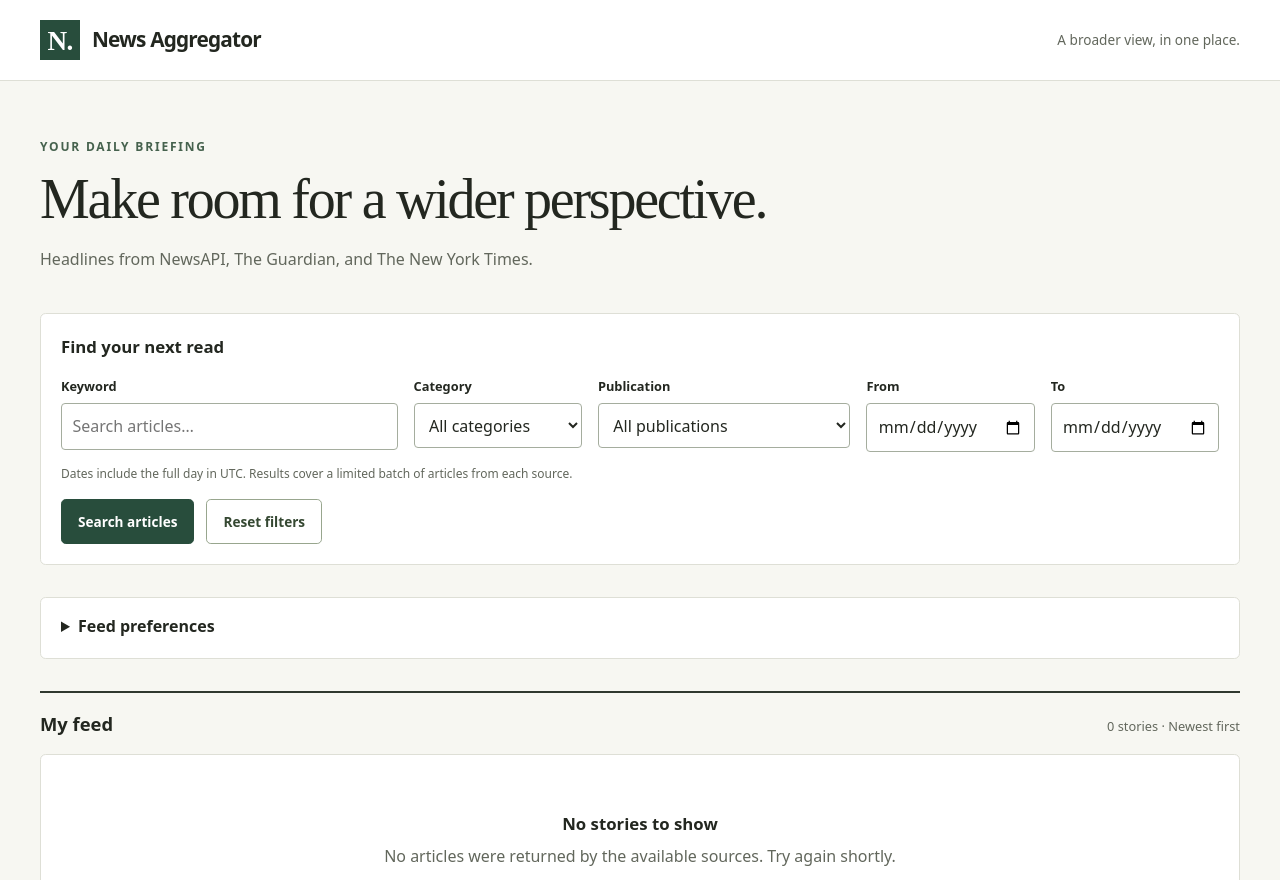
Test case: rejects an inverted date range without making a new request
Expected: the heading "No stories to show" is shown, [562, 812, 718, 835]
Type "2026-10-14" into the date field labelled "From". click: (951, 428)
box: [866, 403, 1035, 452]
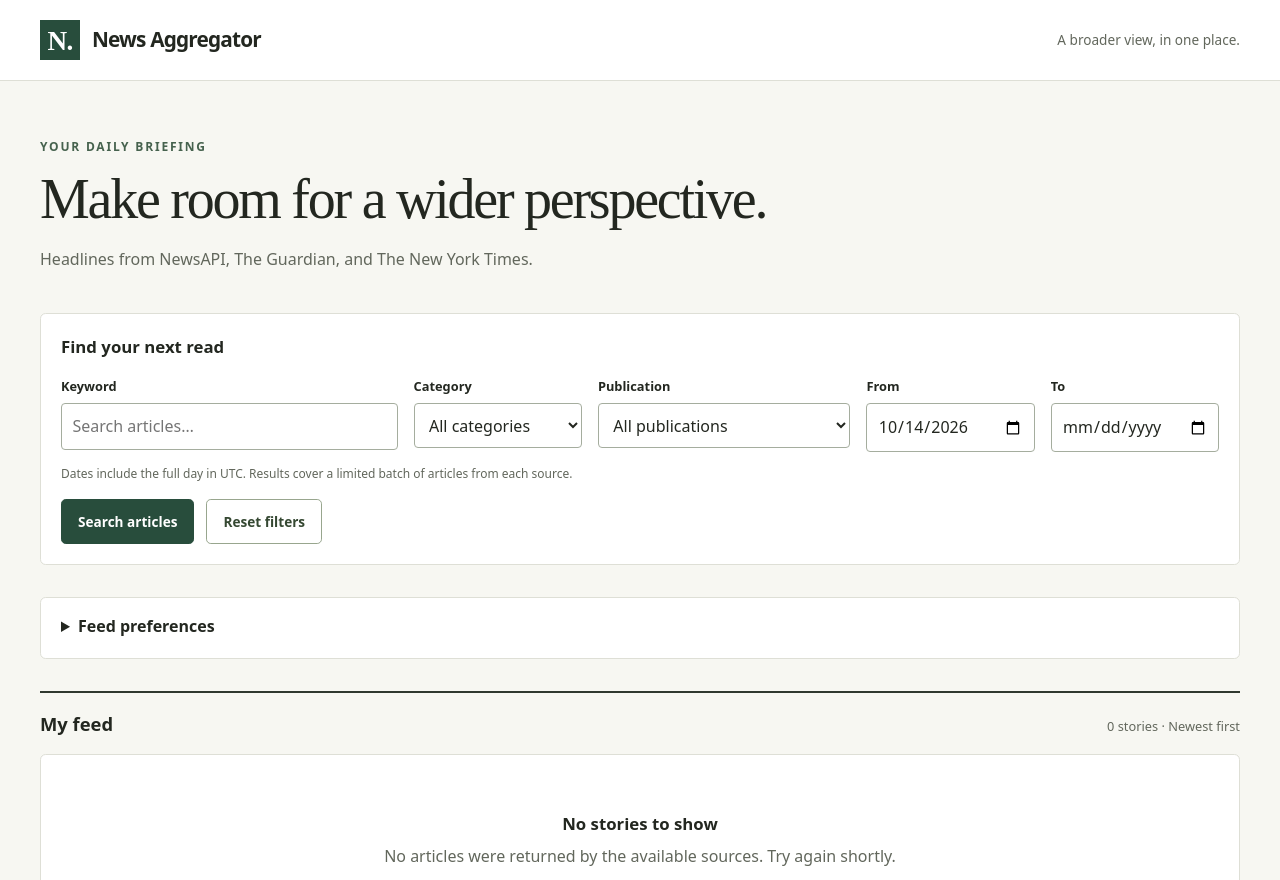
Type "2026-10-01" into the date field labelled "To". click: (1135, 428)
box: [1051, 403, 1219, 452]
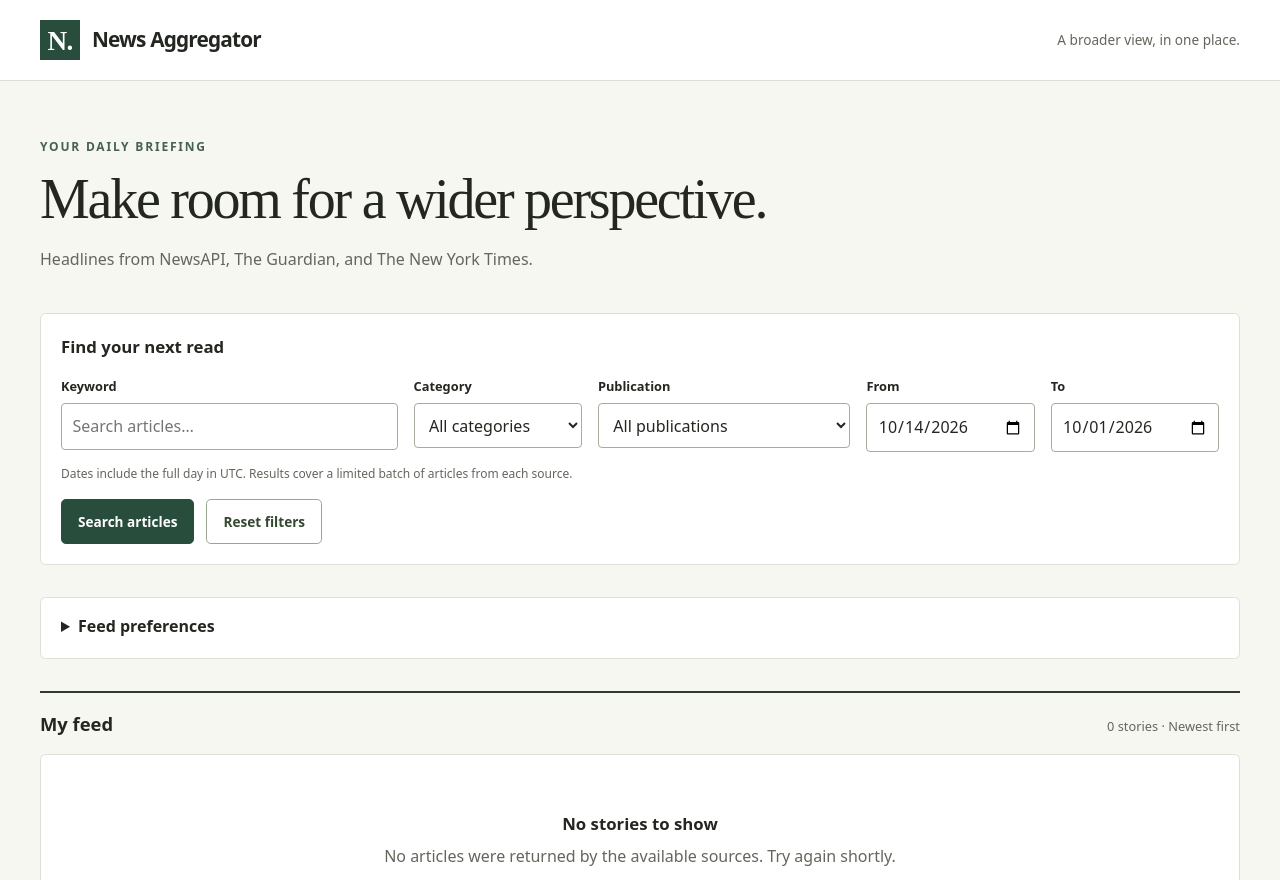
Click the button "Search articles". click: (128, 521)
box: [61, 499, 194, 544]
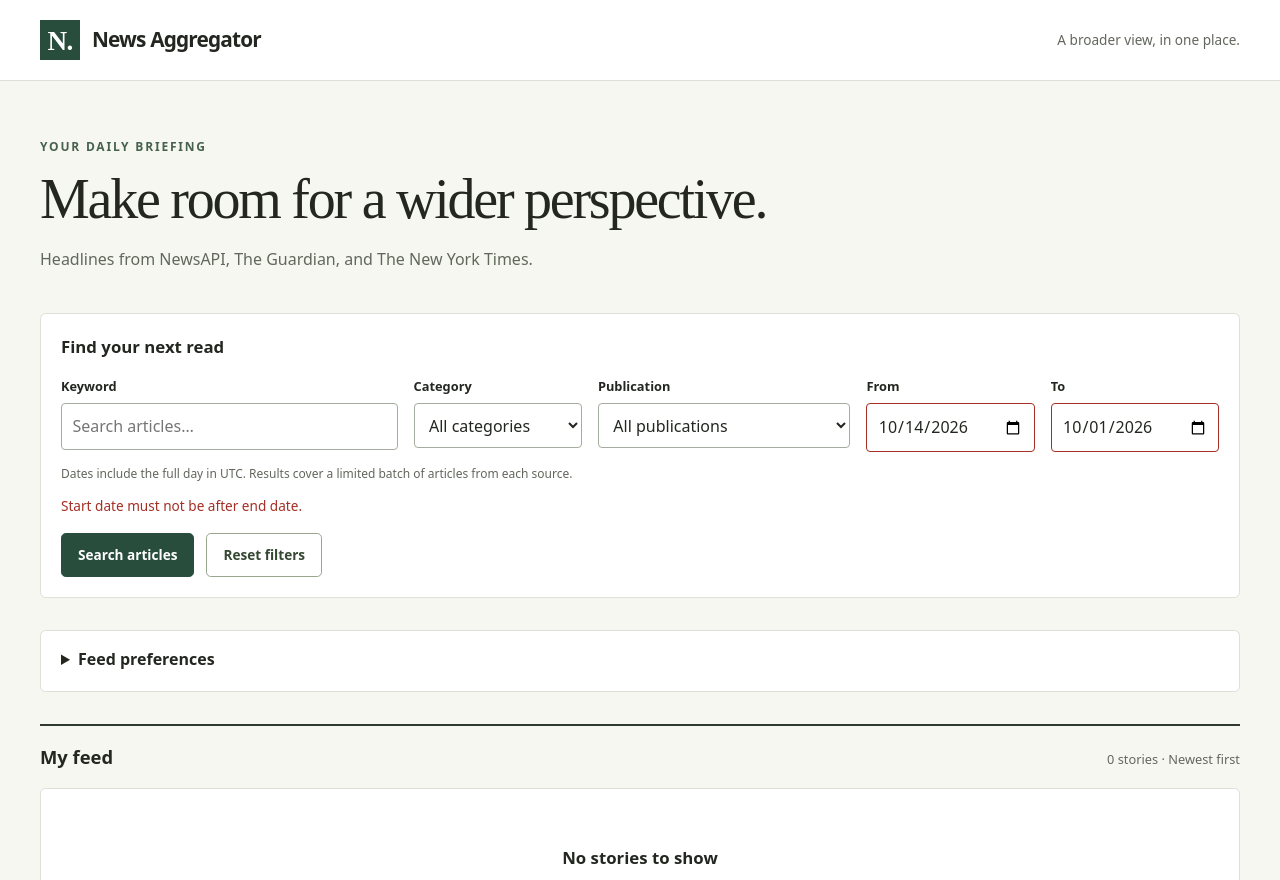
Expected: the message "Start date must not be after end date." is shown, [61, 496, 302, 515]
